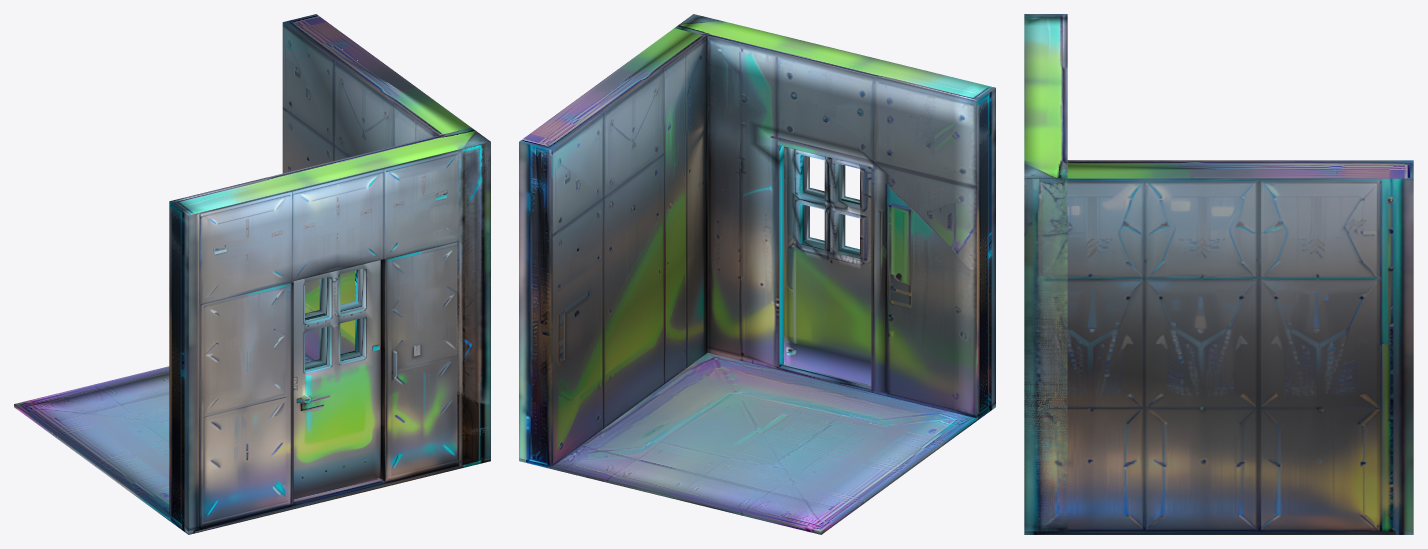
File: residentialBasicFloorWallDoorA.glb
3 views of the same model, side by side, from view 1: azimuth 30°, elevation 25°; view 2: azimuth 150°, elevation 25°; view 3: azimuth 270°, elevation 25° (orthographic). The views are drawn at different scales.
Parts seen in each view (by area): view 1: residentialBasicFloorWallDoorA; view 2: residentialBasicFloorWallDoorA; view 3: residentialBasicFloorWallDoorA.
Part boxes in pixels (x1,y1,x2,y2): residentialBasicFloorWallDoorA: (14, 14, 490, 534); residentialBasicFloorWallDoorA: (519, 14, 995, 534); residentialBasicFloorWallDoorA: (1024, 14, 1413, 534).
Size of the model in its own units: 1 by 1.01 by 1.
Materials: 1 (1 with a texture image).
